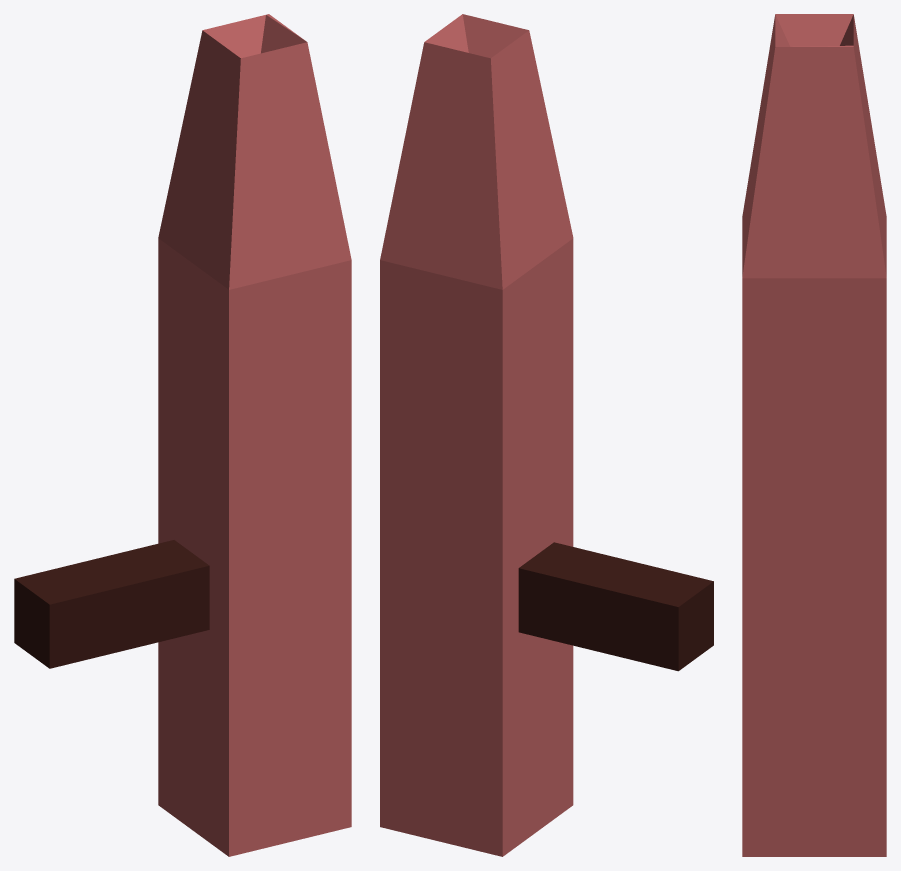
3 views of the same model, side by side, from view 1: azimuth 30°, elevation 25°; view 2: azimuth 150°, elevation 25°; view 3: azimuth 270°, elevation 25° (orthographic). The views are drawn at different scales.
Parts seen in each view (by area): view 1: Box003; view 2: Box003; view 3: Box003.
Part boxes in pixels (box(x1,y1,x2,y2)): Box003: box(14, 14, 351, 856); Box003: box(380, 14, 713, 856); Box003: box(742, 14, 886, 856).
Bounding box in the file's own units: 46.07 × 122 × 20.
